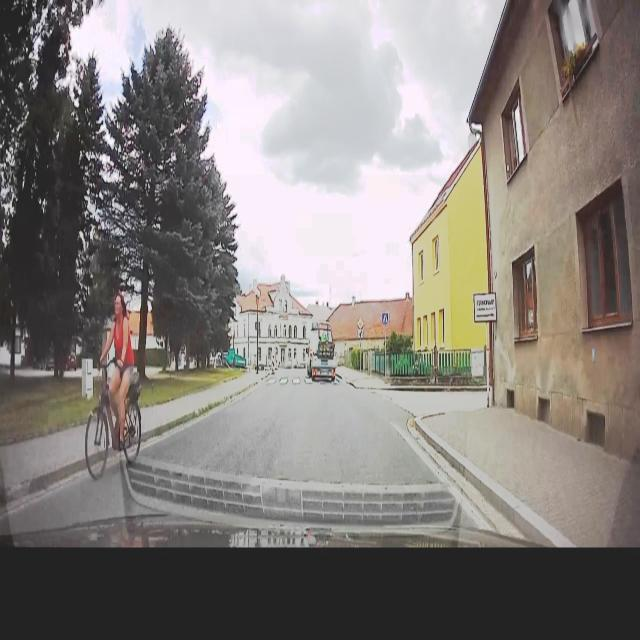Priority road: (357, 315, 365, 331)
